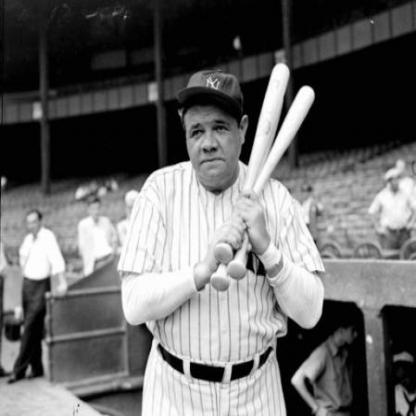face: (184, 82, 242, 183), (29, 213, 42, 235), (92, 200, 103, 220)
